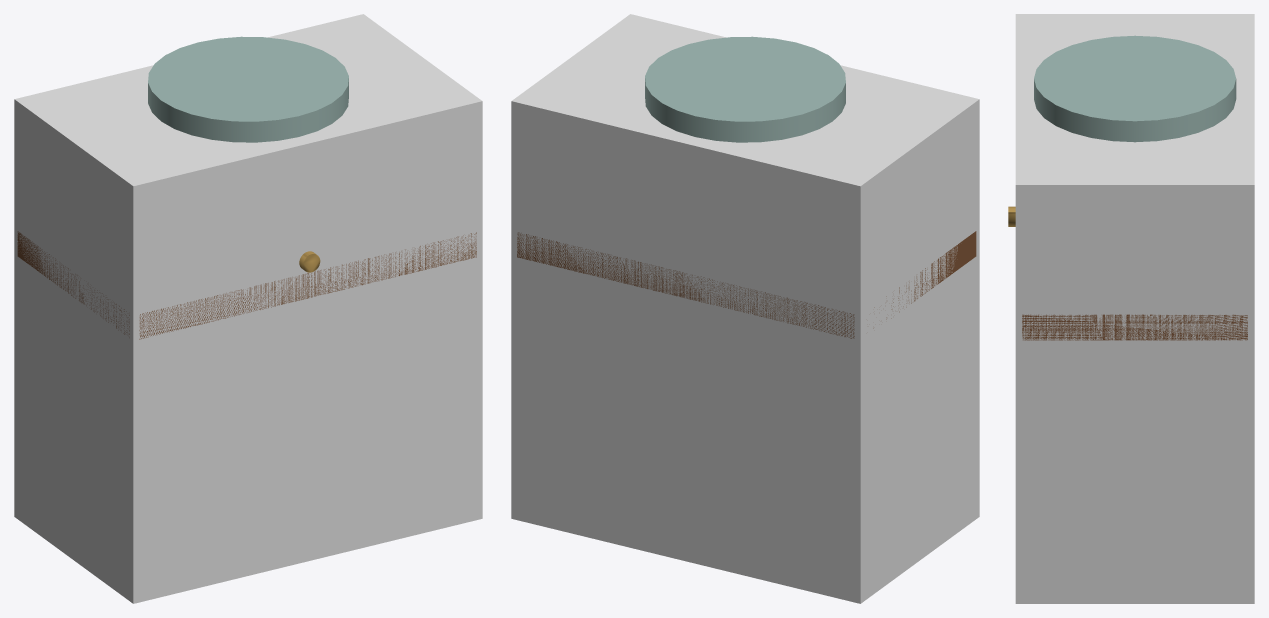
The model's file is hydration-station_luxury.glb.
The picture shows the model from 3 angles, left to right: view 1: azimuth 30°, elevation 25°; view 2: azimuth 150°, elevation 25°; view 3: azimuth 270°, elevation 25°; orthographic projection.
Visible parts, largest first — view 1: COL_hydration-station, MESH_Reservoir, MESH_Countertop; view 2: COL_hydration-station, MESH_Reservoir, MESH_Countertop; view 3: COL_hydration-station, MESH_Reservoir, MESH_Countertop.
Boxes of the visible parts, left/top/right/bottom form: COL_hydration-station: left=14, top=14, right=482, bottom=603; MESH_Reservoir: left=148, top=36, right=348, bottom=142; MESH_Countertop: left=17, top=231, right=476, bottom=339; COL_hydration-station: left=511, top=14, right=979, bottom=603; MESH_Reservoir: left=645, top=36, right=845, bottom=142; MESH_Countertop: left=517, top=231, right=976, bottom=338; COL_hydration-station: left=1015, top=14, right=1254, bottom=603; MESH_Reservoir: left=1034, top=35, right=1236, bottom=142; MESH_Countertop: left=1022, top=314, right=1247, bottom=340.
Size of the model in its own units: 1.05 by 1.26 by 0.6386.
